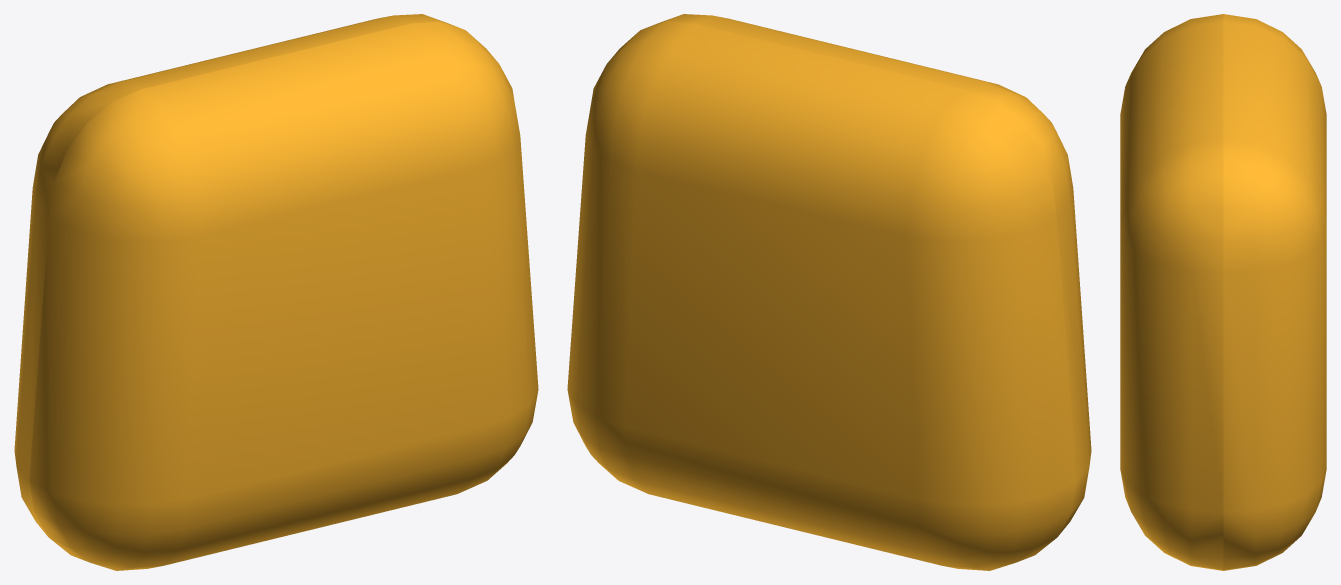
The model's file is kernel.glb.
3 renders of one model, left to right at view 1: azimuth 30°, elevation 25°; view 2: azimuth 150°, elevation 25°; view 3: azimuth 270°, elevation 25°, orthographic. The views are drawn at different scales.
Parts seen in each view (by area): view 1: Kernel_Source; view 2: Kernel_Source; view 3: Kernel_Source.
Part boxes in pixels (x1=…): Kernel_Source: x1=14, y1=14, x2=538, y2=570; Kernel_Source: x1=567, y1=14, x2=1091, y2=570; Kernel_Source: x1=1120, y1=14, x2=1326, y2=570.
Size of the model in its own units: 0.64 by 0.58 by 0.26.
